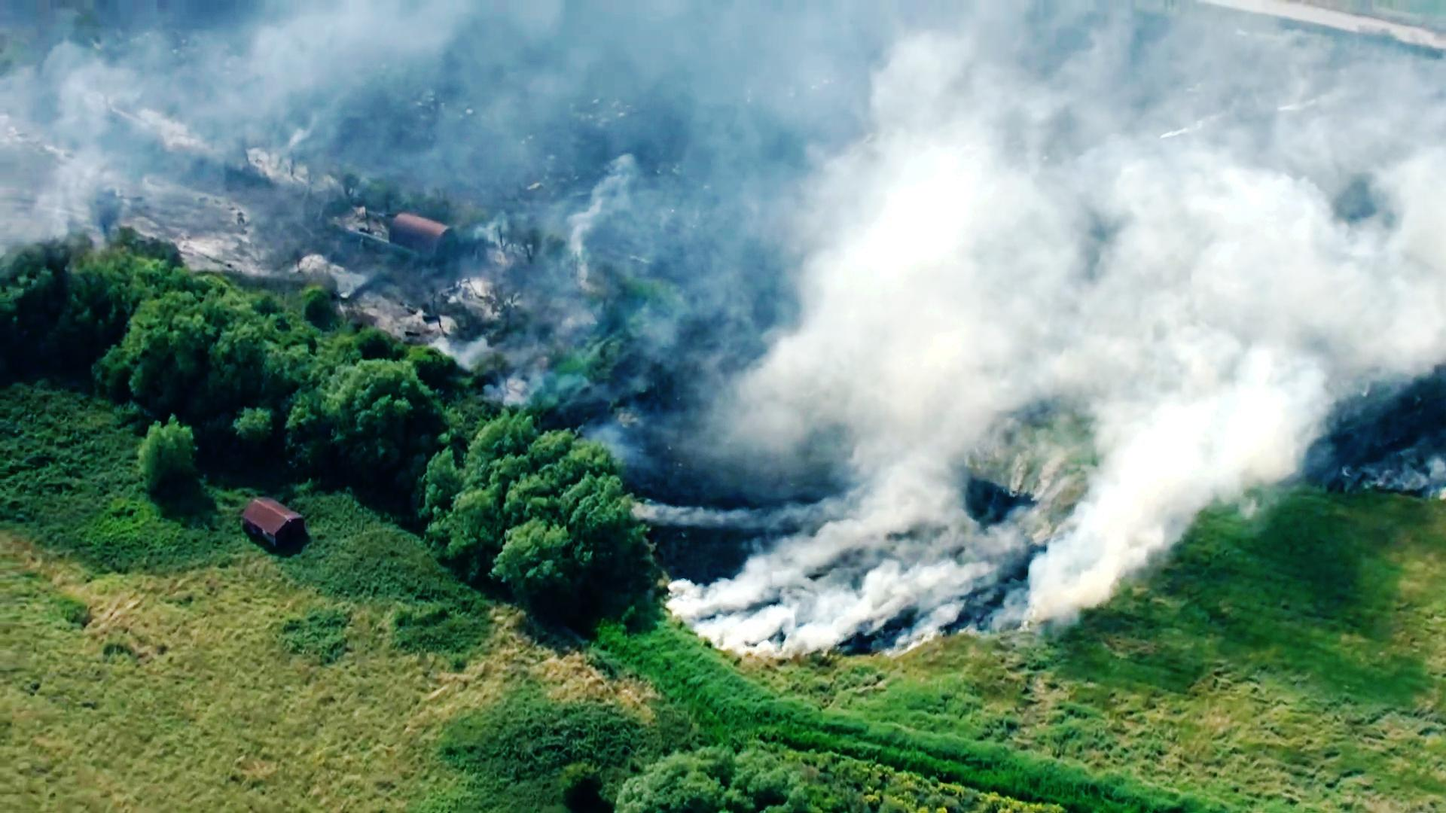smoke: (1041, 160, 1394, 431), (787, 93, 1014, 428), (700, 522, 923, 657), (993, 424, 1147, 613)
